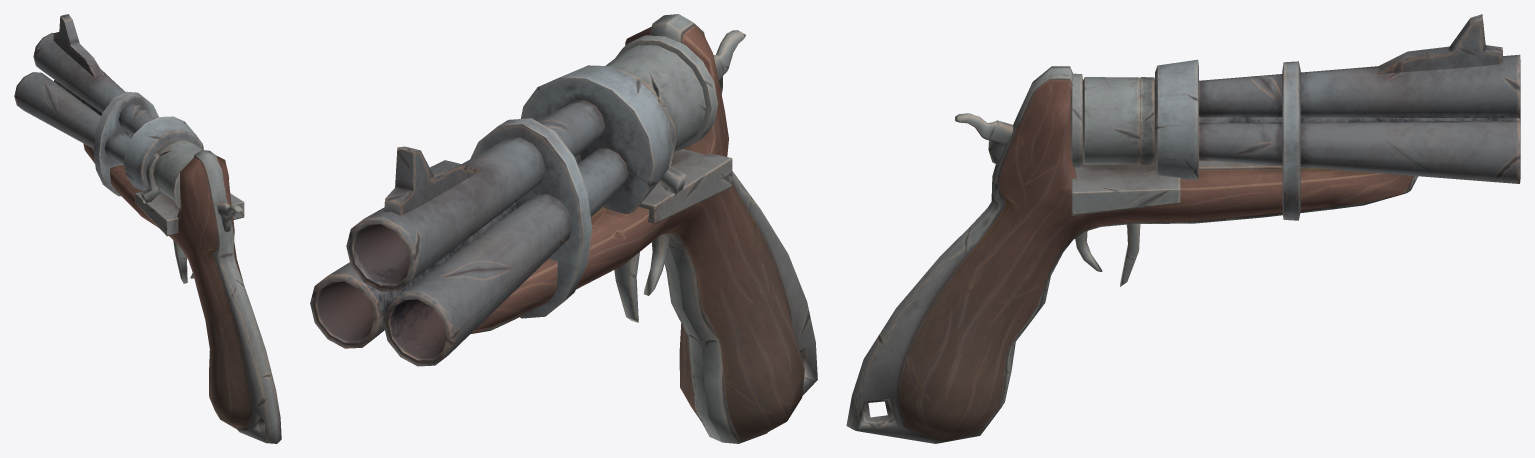
3 views of the same model, side by side, from view 1: azimuth 30°, elevation 25°; view 2: azimuth 150°, elevation 25°; view 3: azimuth 270°, elevation 25° (orthographic). The views are drawn at different scales.
Visible parts, largest first — view 1: Tri-Revolver; view 2: Tri-Revolver; view 3: Tri-Revolver.
Part boxes in pixels (box(x1,y1,x2,y2)): Tri-Revolver: box(14, 14, 281, 443); Tri-Revolver: box(310, 14, 817, 443); Tri-Revolver: box(846, 14, 1520, 443).
Bounding box in the file's own units: 18 × 60.86 × 87.83.
1 material, 1 textured.
